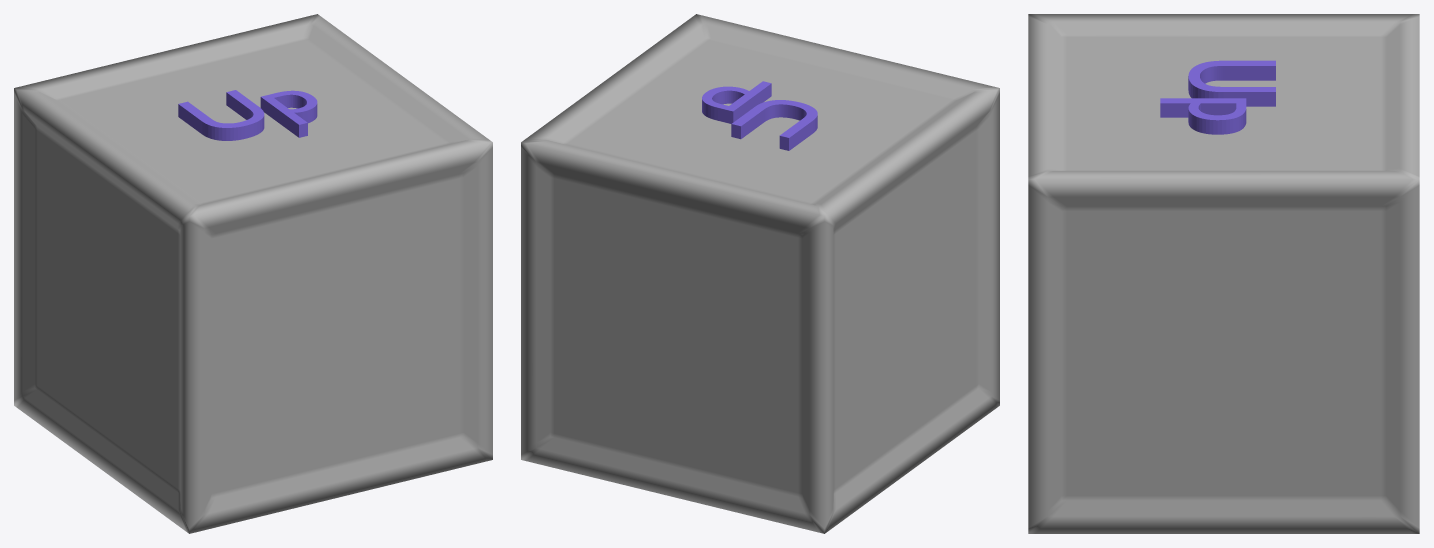
The model's file is esri-cube.glb.
3 renders of one model, left to right at view 1: azimuth 30°, elevation 25°; view 2: azimuth 150°, elevation 25°; view 3: azimuth 270°, elevation 25°, orthographic. The views are drawn at different scales.
Parts seen in each view (by area): view 1: Cube, Text; view 2: Cube, Text; view 3: Cube, Text.
Boxes of the visible parts, box(x1,y1,x2,y2) form: Cube: box(14, 14, 492, 533); Text: box(178, 90, 317, 140); Cube: box(521, 14, 999, 533); Text: box(702, 81, 817, 150); Cube: box(1028, 14, 1419, 533); Text: box(1160, 60, 1275, 134).
Bounding box in the file's own units: 1 × 1.02 × 1.
